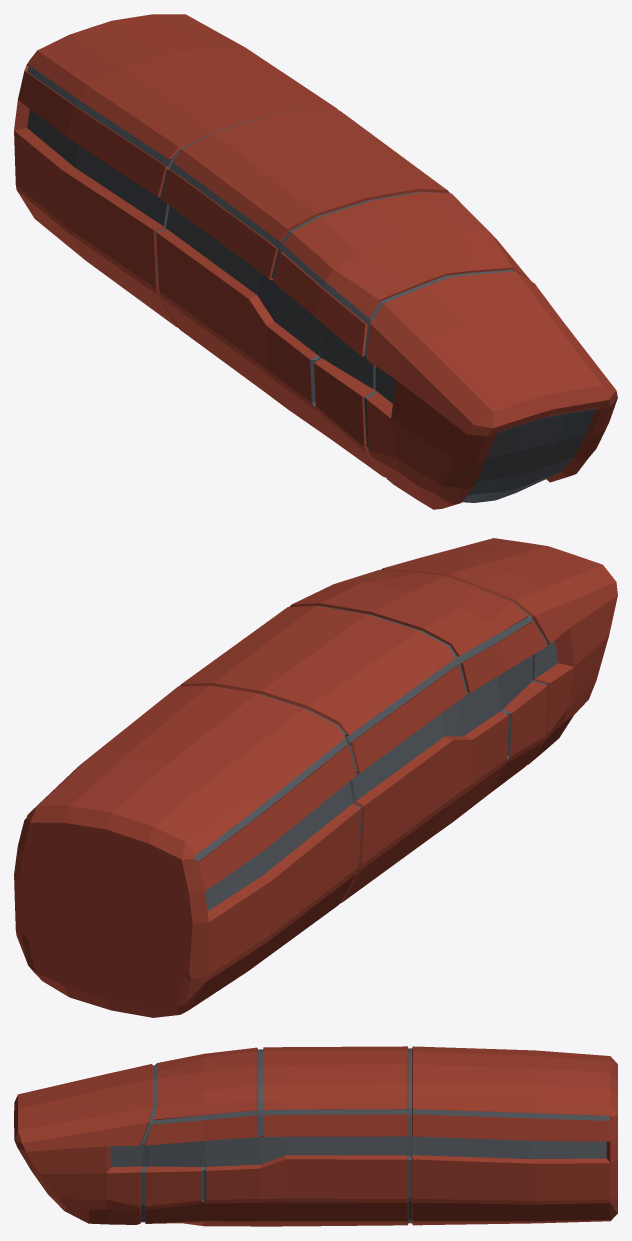
File: Dropship_04_Body_Red.fbx
3 renders of one model, top to bottom at view 1: azimuth 30°, elevation 25°; view 2: azimuth 150°, elevation 25°; view 3: azimuth 270°, elevation 25°, orthographic. The views are drawn at different scales.
Visible parts, largest first — view 1: Dropship_04_Body_Red; view 2: Dropship_04_Body_Red; view 3: Dropship_04_Body_Red.
Part boxes in pixels (x1,y1,x2,y2): Dropship_04_Body_Red: (14,14,617,509); Dropship_04_Body_Red: (14,538,617,1017); Dropship_04_Body_Red: (14,1046,617,1226).
Size of the model in its own units: 361 by 358 by 1327.
Materials: 1 (1 with a texture image).
